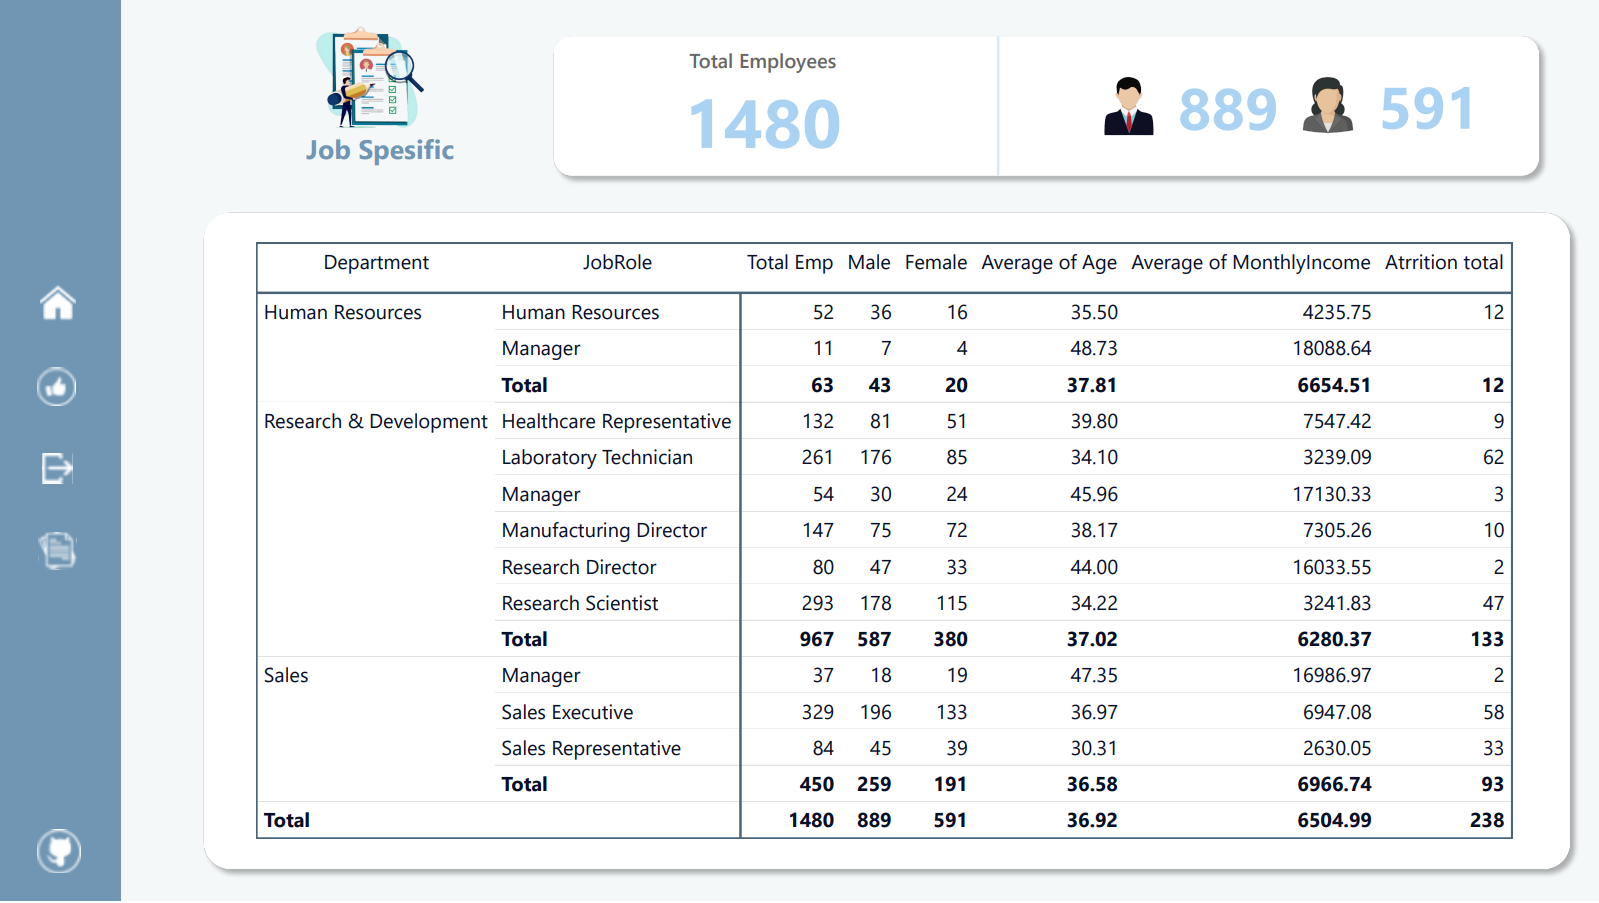

This screenshot's page, from the dashboard's own definition file:
{"tool":"powerbi","page":{"name":"Detail","canvas":[1280,720],"ordinal":3},"visuals":[{"type":"shape","box":[154.3,161.4,1110,541.4],"z":0},{"type":"shape","box":[434.3,20,804.3,128.6],"z":1000},{"type":"card","title":"Total Employees","fields":{"Values":["All Measure.Total Emp"]},"box":[521.4,37.1,177.1,94.3],"z":2000},{"type":"shape","box":[758.6,28.6,78.6,111.4],"z":3000},{"type":"textbox","title":"Job Spesific","box":[188.6,104.3,230,37.1],"z":4000},{"type":"image","box":[233,0,123,125],"z":5000},{"type":"card","fields":{"Values":["All Measure.Female"]},"box":[1052.1,24,181,119],"z":6000},{"type":"card","fields":{"Values":["All Measure.Male"]},"box":[903.1,26,158,117],"z":7000},{"type":"image","box":[868.1,53,69,62],"z":8000},{"type":"image","box":[1032.1,57,59,54],"z":9000},{"type":"pivotTable","fields":{"Rows":["HR_Analytics.Department","HR_Analytics.JobRole"],"Values":["All Measure.Total Emp","All Measure.Male","All Measure.Female","Avg(HR_Analytics.Age)","Avg(HR_Analytics.MonthlyIncome)","All Measure.Atrrition total"]},"box":[200,188.6,1020,488.6],"z":10000},{"type":"shape","box":[0,0,95.7,720],"z":11000},{"type":"actionButton","box":[27.8,224.4,43.3,35.6],"z":12000},{"type":"actionButton","box":[30,355,31.7,38.3],"z":13000},{"type":"actionButton","box":[25.6,290,43.3,37.8],"z":14000},{"type":"actionButton","box":[26.7,421.1,44.4,37.8],"z":15000},{"type":"actionButton","box":[25.7,658.6,48.6,42.9],"z":16000}]}

Visuals, with their boxes on the page's 1280x720 design canvas (x1, y1, x2, y2). These are canvas units, not pixel positions in the 1599x903 screenshot, which may show the page scaled, cropped or inside an application window:
shape: [154,161,1264,703]
shape: [434,20,1239,149]
"Total Employees" card: [521,37,698,131]
shape: [759,29,837,140]
"Job Spesific" textbox: [189,104,419,141]
image: [233,0,356,125]
card - All Measure.Female: [1052,24,1233,143]
card - All Measure.Male: [903,26,1061,143]
image: [868,53,937,115]
image: [1032,57,1091,111]
pivotTable - HR_Analytics.Department x HR_Analytics.JobRole: [200,189,1220,677]
shape: [0,0,96,720]
actionButton: [28,224,71,260]
actionButton: [30,355,62,393]
actionButton: [26,290,69,328]
actionButton: [27,421,71,459]
actionButton: [26,659,74,702]
